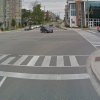crosswalk: (0, 54, 79, 67), (77, 31, 100, 48)
